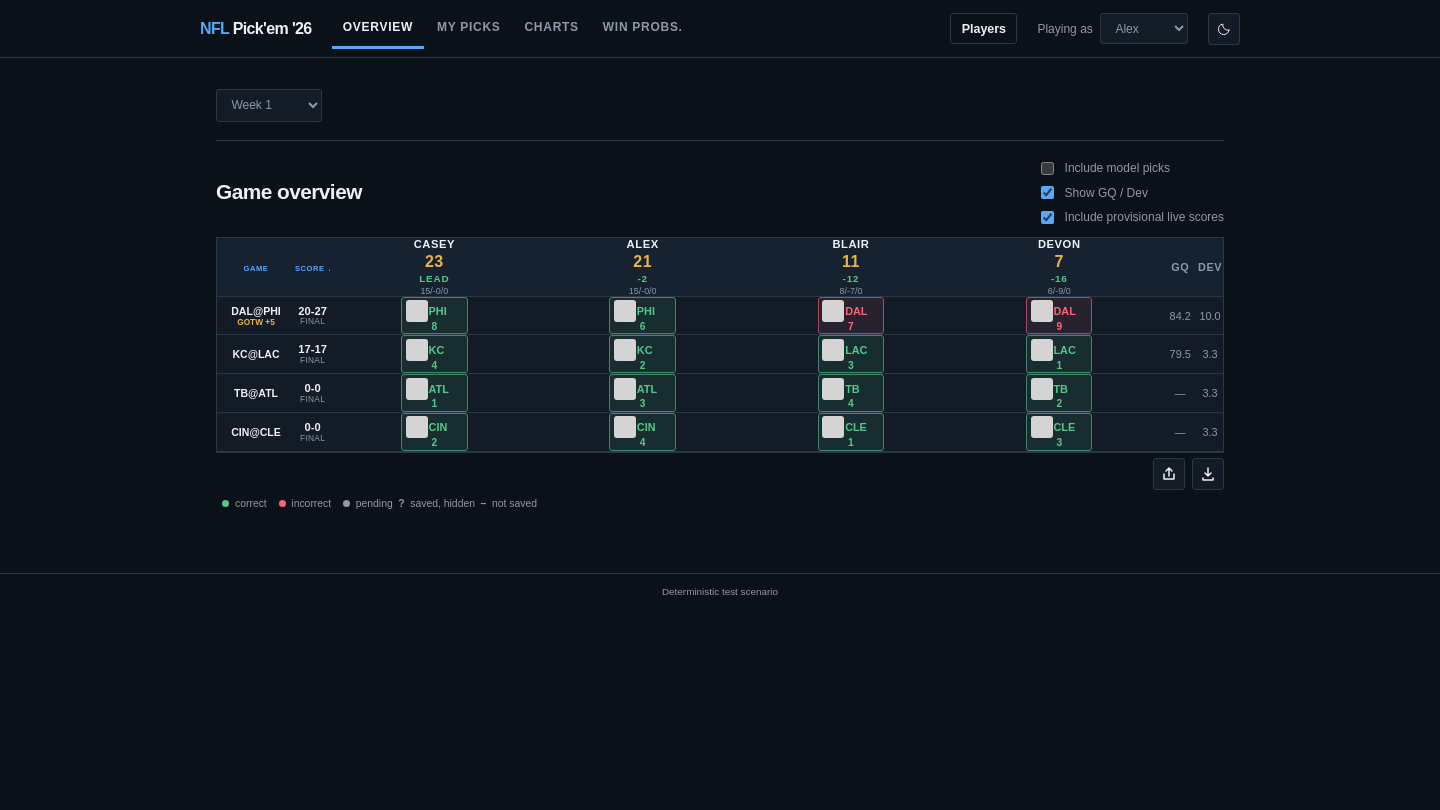
four-user application flow › keeps season totals independent of the week being viewed
Expected: the text "21" is shown, [633,253,652,271]
Expected: the text "-2" is shown, [637,273,648,284]
Click the button "Charts": (552, 28) [513,8,590,49]
(page scrolled)
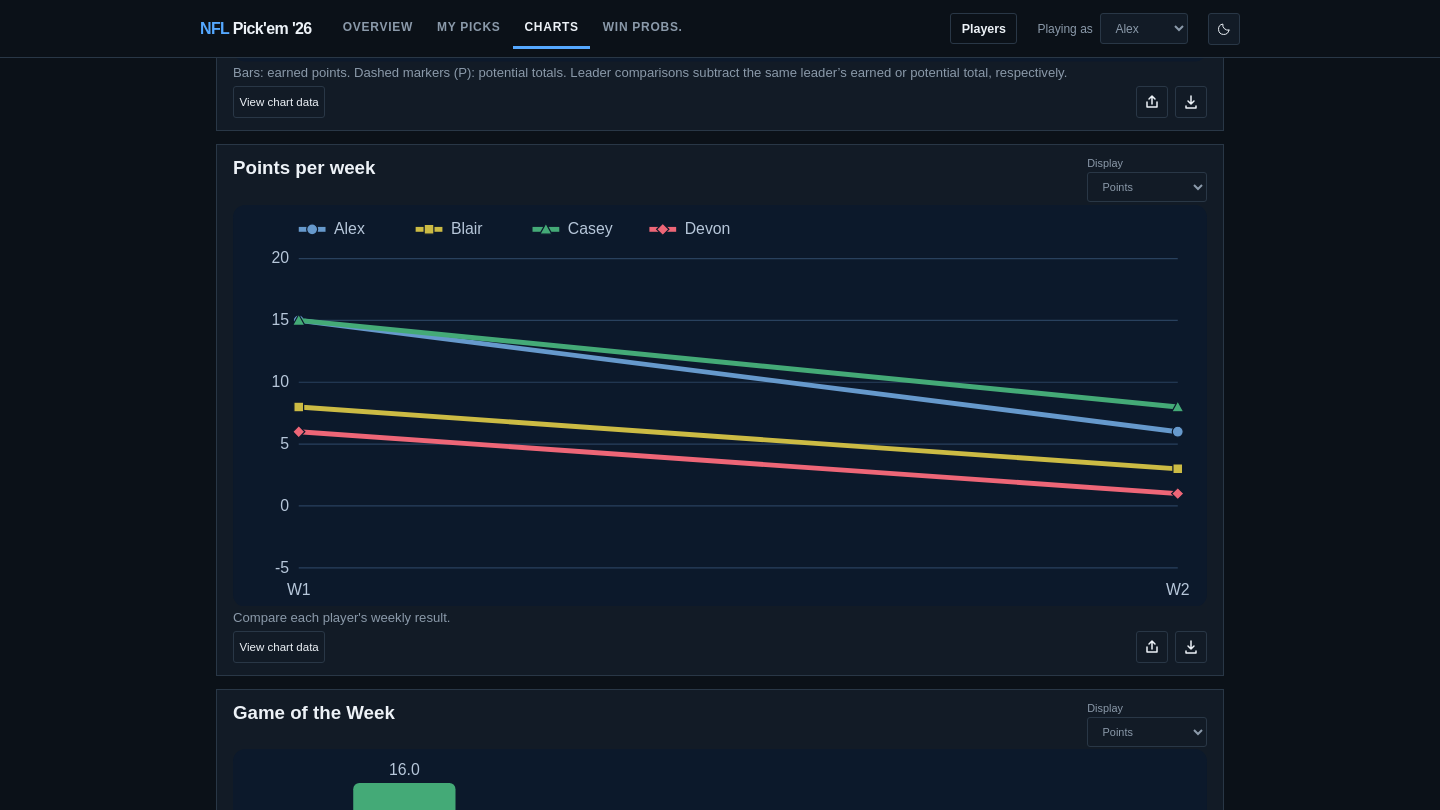
Result: the picture named "Points per week, absolute" shows "W2" at [1166,580,1190,597]
